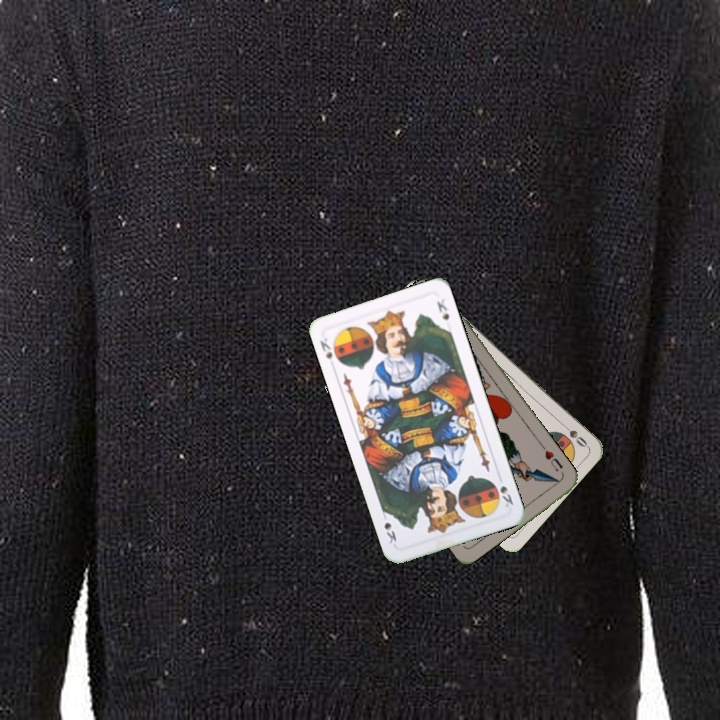HU: (538, 442, 565, 474)
SK: (494, 471, 516, 510), (316, 334, 335, 362)
SO: (557, 418, 590, 450)
